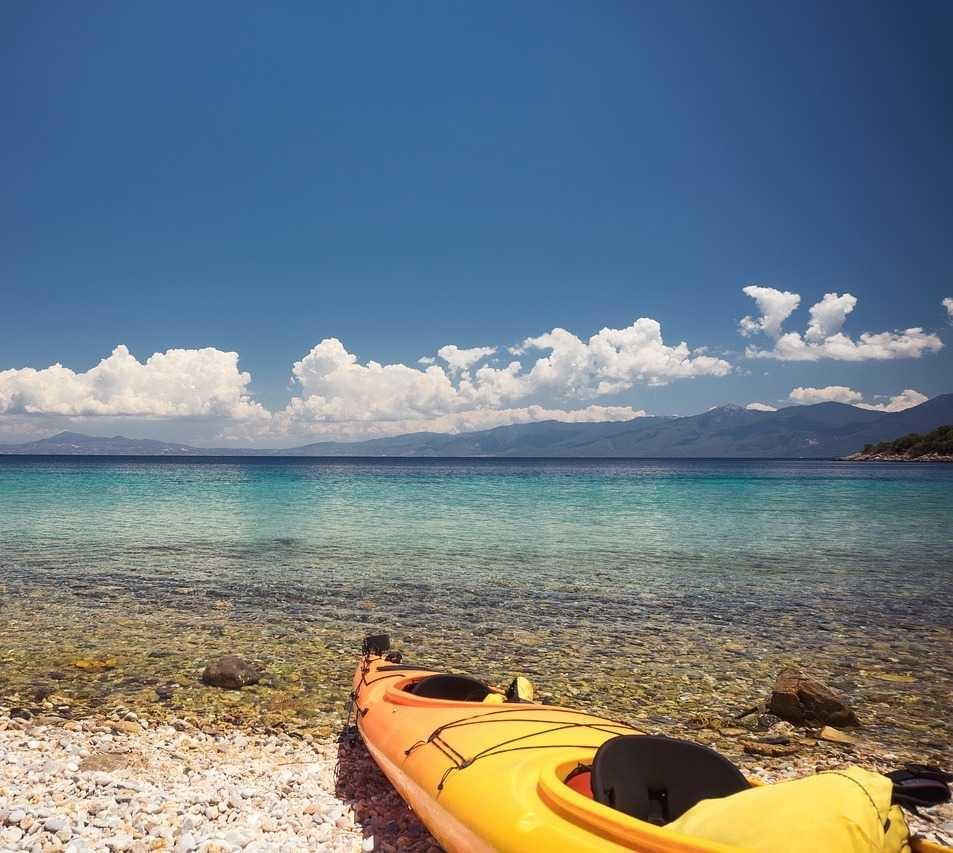kayak: (351, 637, 950, 850)
